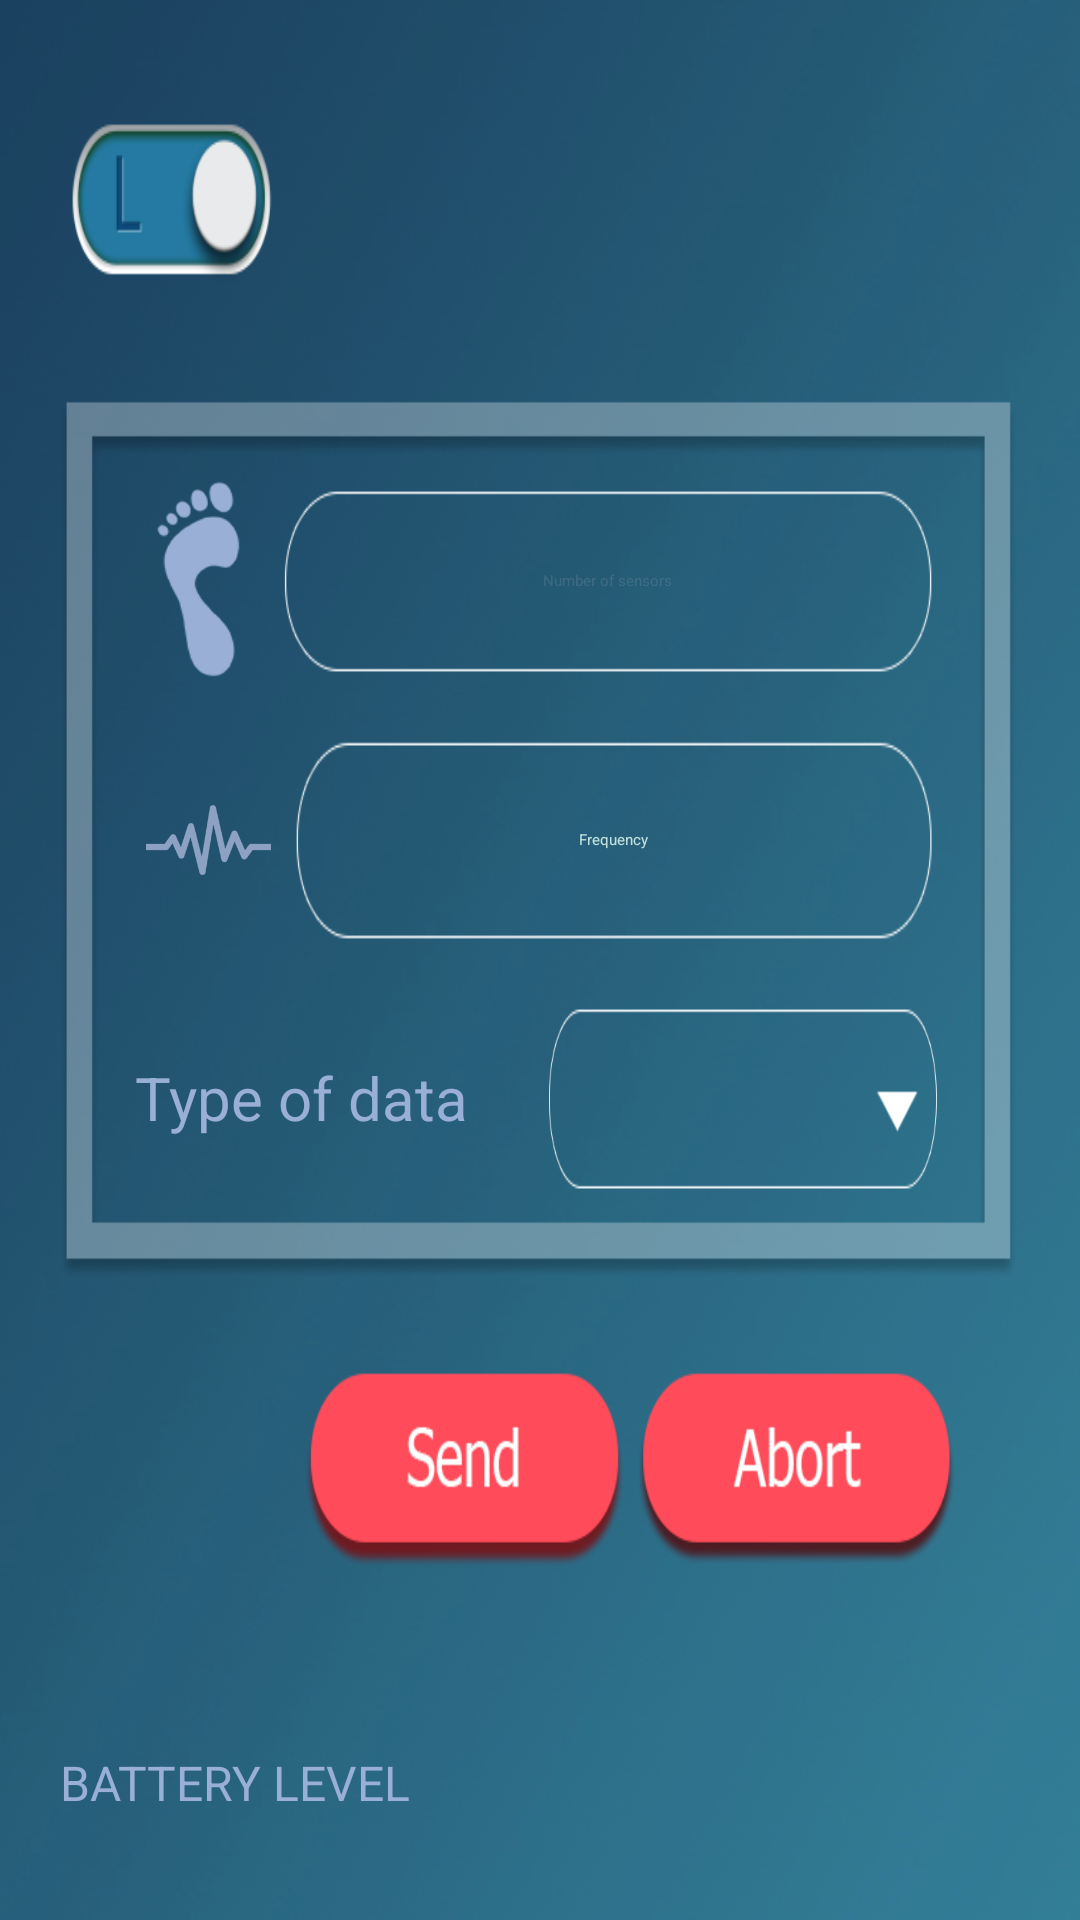

Named icons in this screenshot (1080w x 1920h) and their bounding boxes, (x1, y1, x2, y2):
toggle switch: (72, 124, 271, 275)
